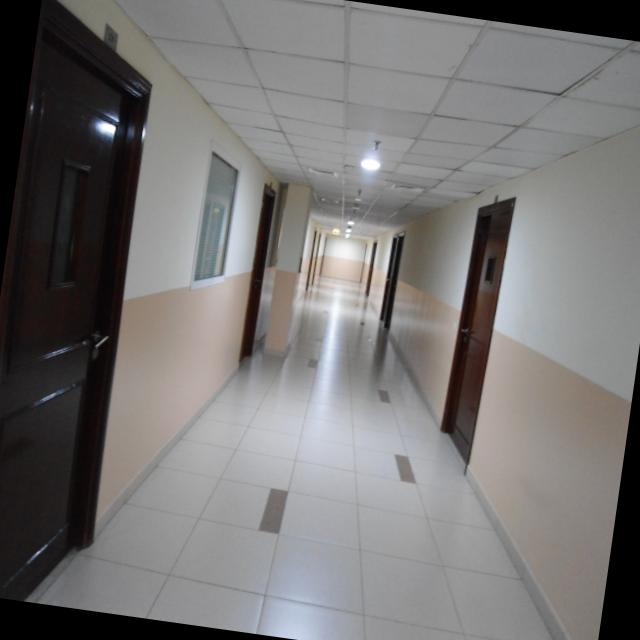door: (0, 0, 175, 610), (422, 185, 520, 452), (232, 177, 284, 372), (375, 222, 414, 338)
path: (37, 279, 555, 640)
